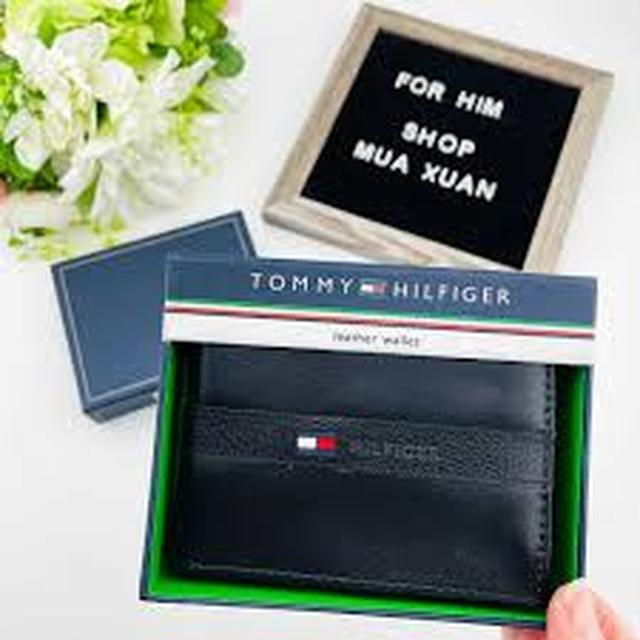wallet: (164, 252, 580, 640)
